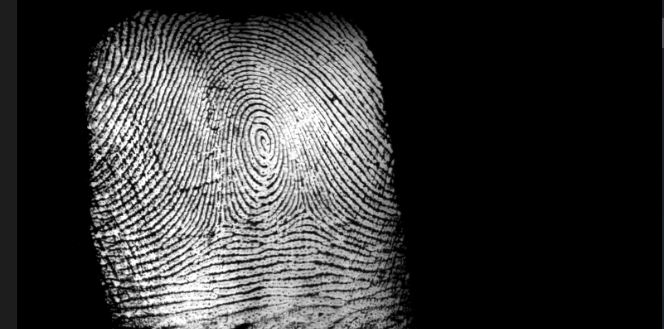nucelo: (253, 126, 275, 158)
verticilo: (213, 209, 235, 231), (296, 200, 318, 222)
